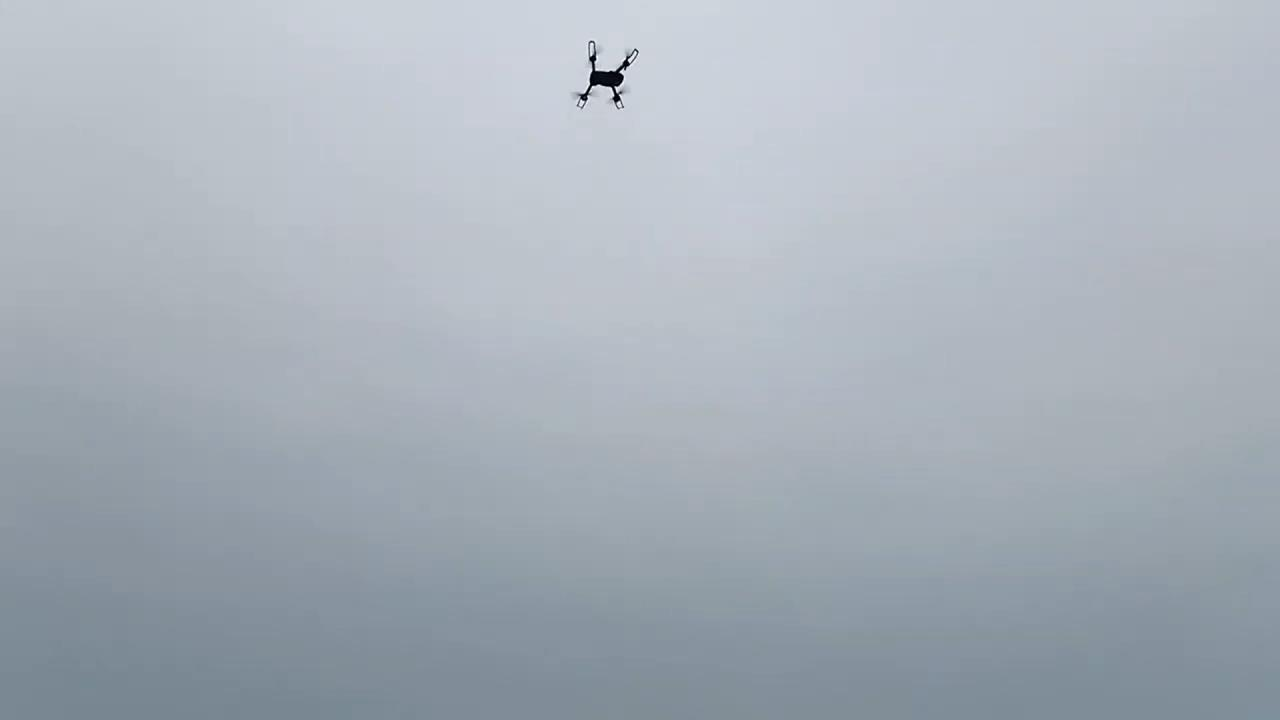Drone: (553, 31, 663, 124)
